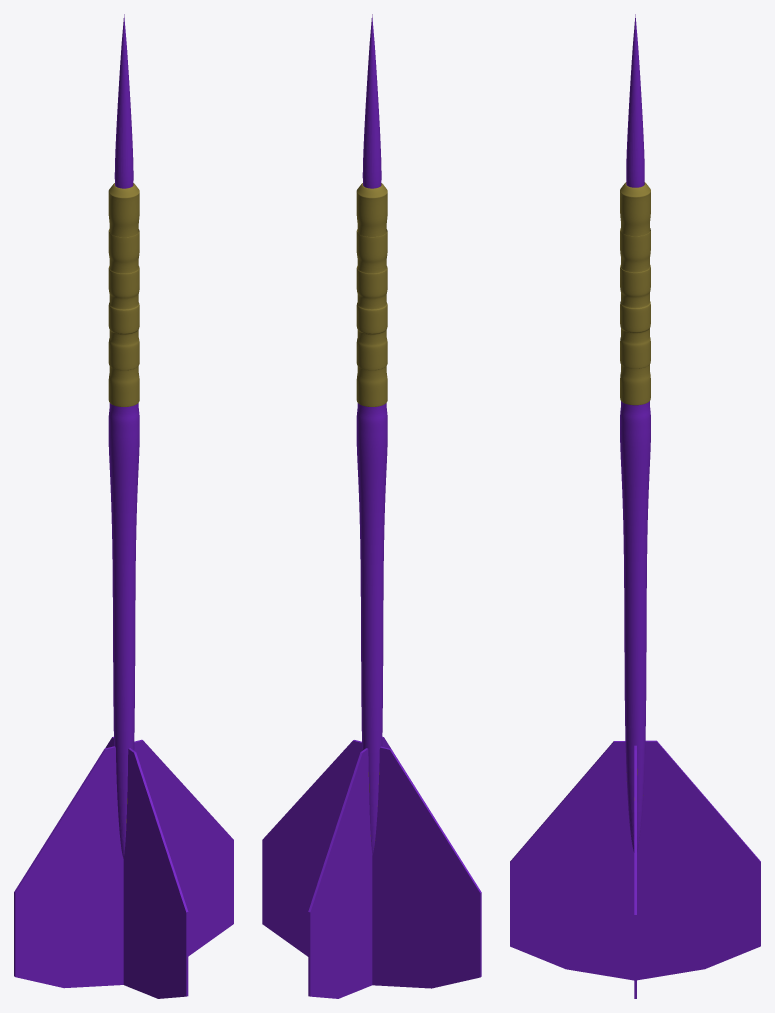
Rendered from Dart_lila.fbx.
3 views of the same model, side by side, from view 1: azimuth 30°, elevation 25°; view 2: azimuth 150°, elevation 25°; view 3: azimuth 270°, elevation 25° (orthographic).
Visible parts, largest first — view 1: body; view 2: body; view 3: body.
Part boxes in pixels (x1,y1,x2,y2): body: [14, 14, 233, 998]; body: [262, 14, 481, 998]; body: [510, 14, 760, 998].
Size of the model in its own units: 28.45 by 121 by 28.45.
